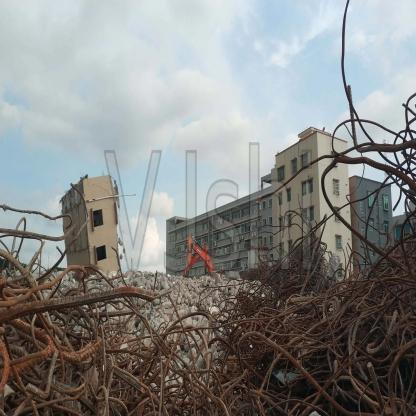rebar: (0, 191, 416, 415), (256, 0, 416, 256), (0, 225, 75, 241)
